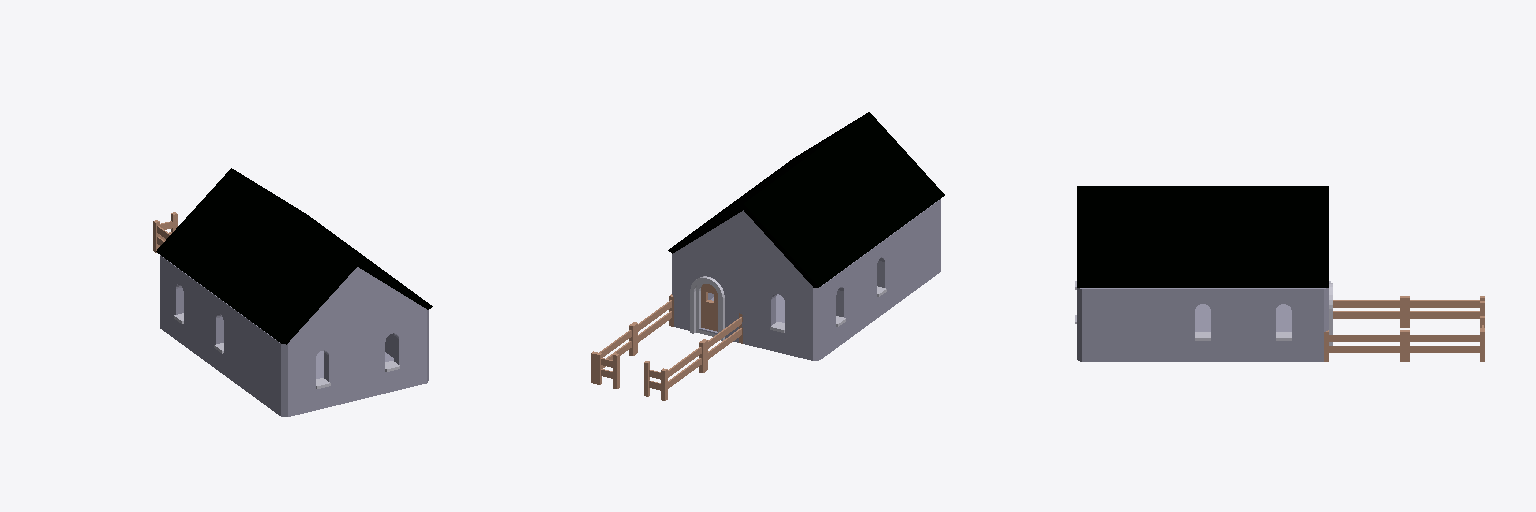
Rendered from House10.obj.
3 views of the same model, side by side, from view 1: azimuth 30°, elevation 25°; view 2: azimuth 150°, elevation 25°; view 3: azimuth 270°, elevation 25° (orthographic).
Bounding box in the file's own units: 2.19 × 1.92 × 5.09.